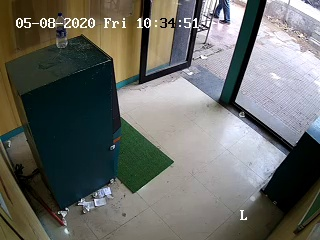open: (138, 4, 266, 110)
